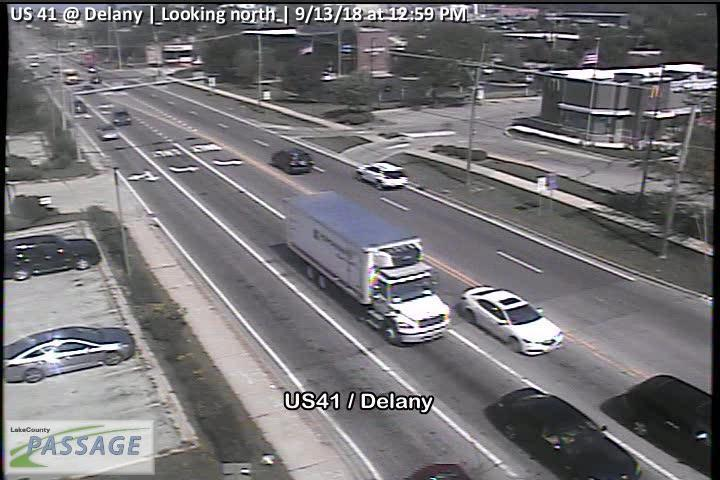Bus: (62, 69, 81, 84)
SUV: (355, 160, 409, 190), (271, 147, 313, 174), (95, 122, 119, 142)
Sedan: (485, 387, 643, 480), (624, 374, 711, 467), (2, 325, 137, 384), (459, 284, 565, 358), (2, 234, 102, 282), (112, 109, 133, 125), (71, 99, 89, 115), (99, 102, 117, 115)
Truck: (283, 190, 453, 347)
